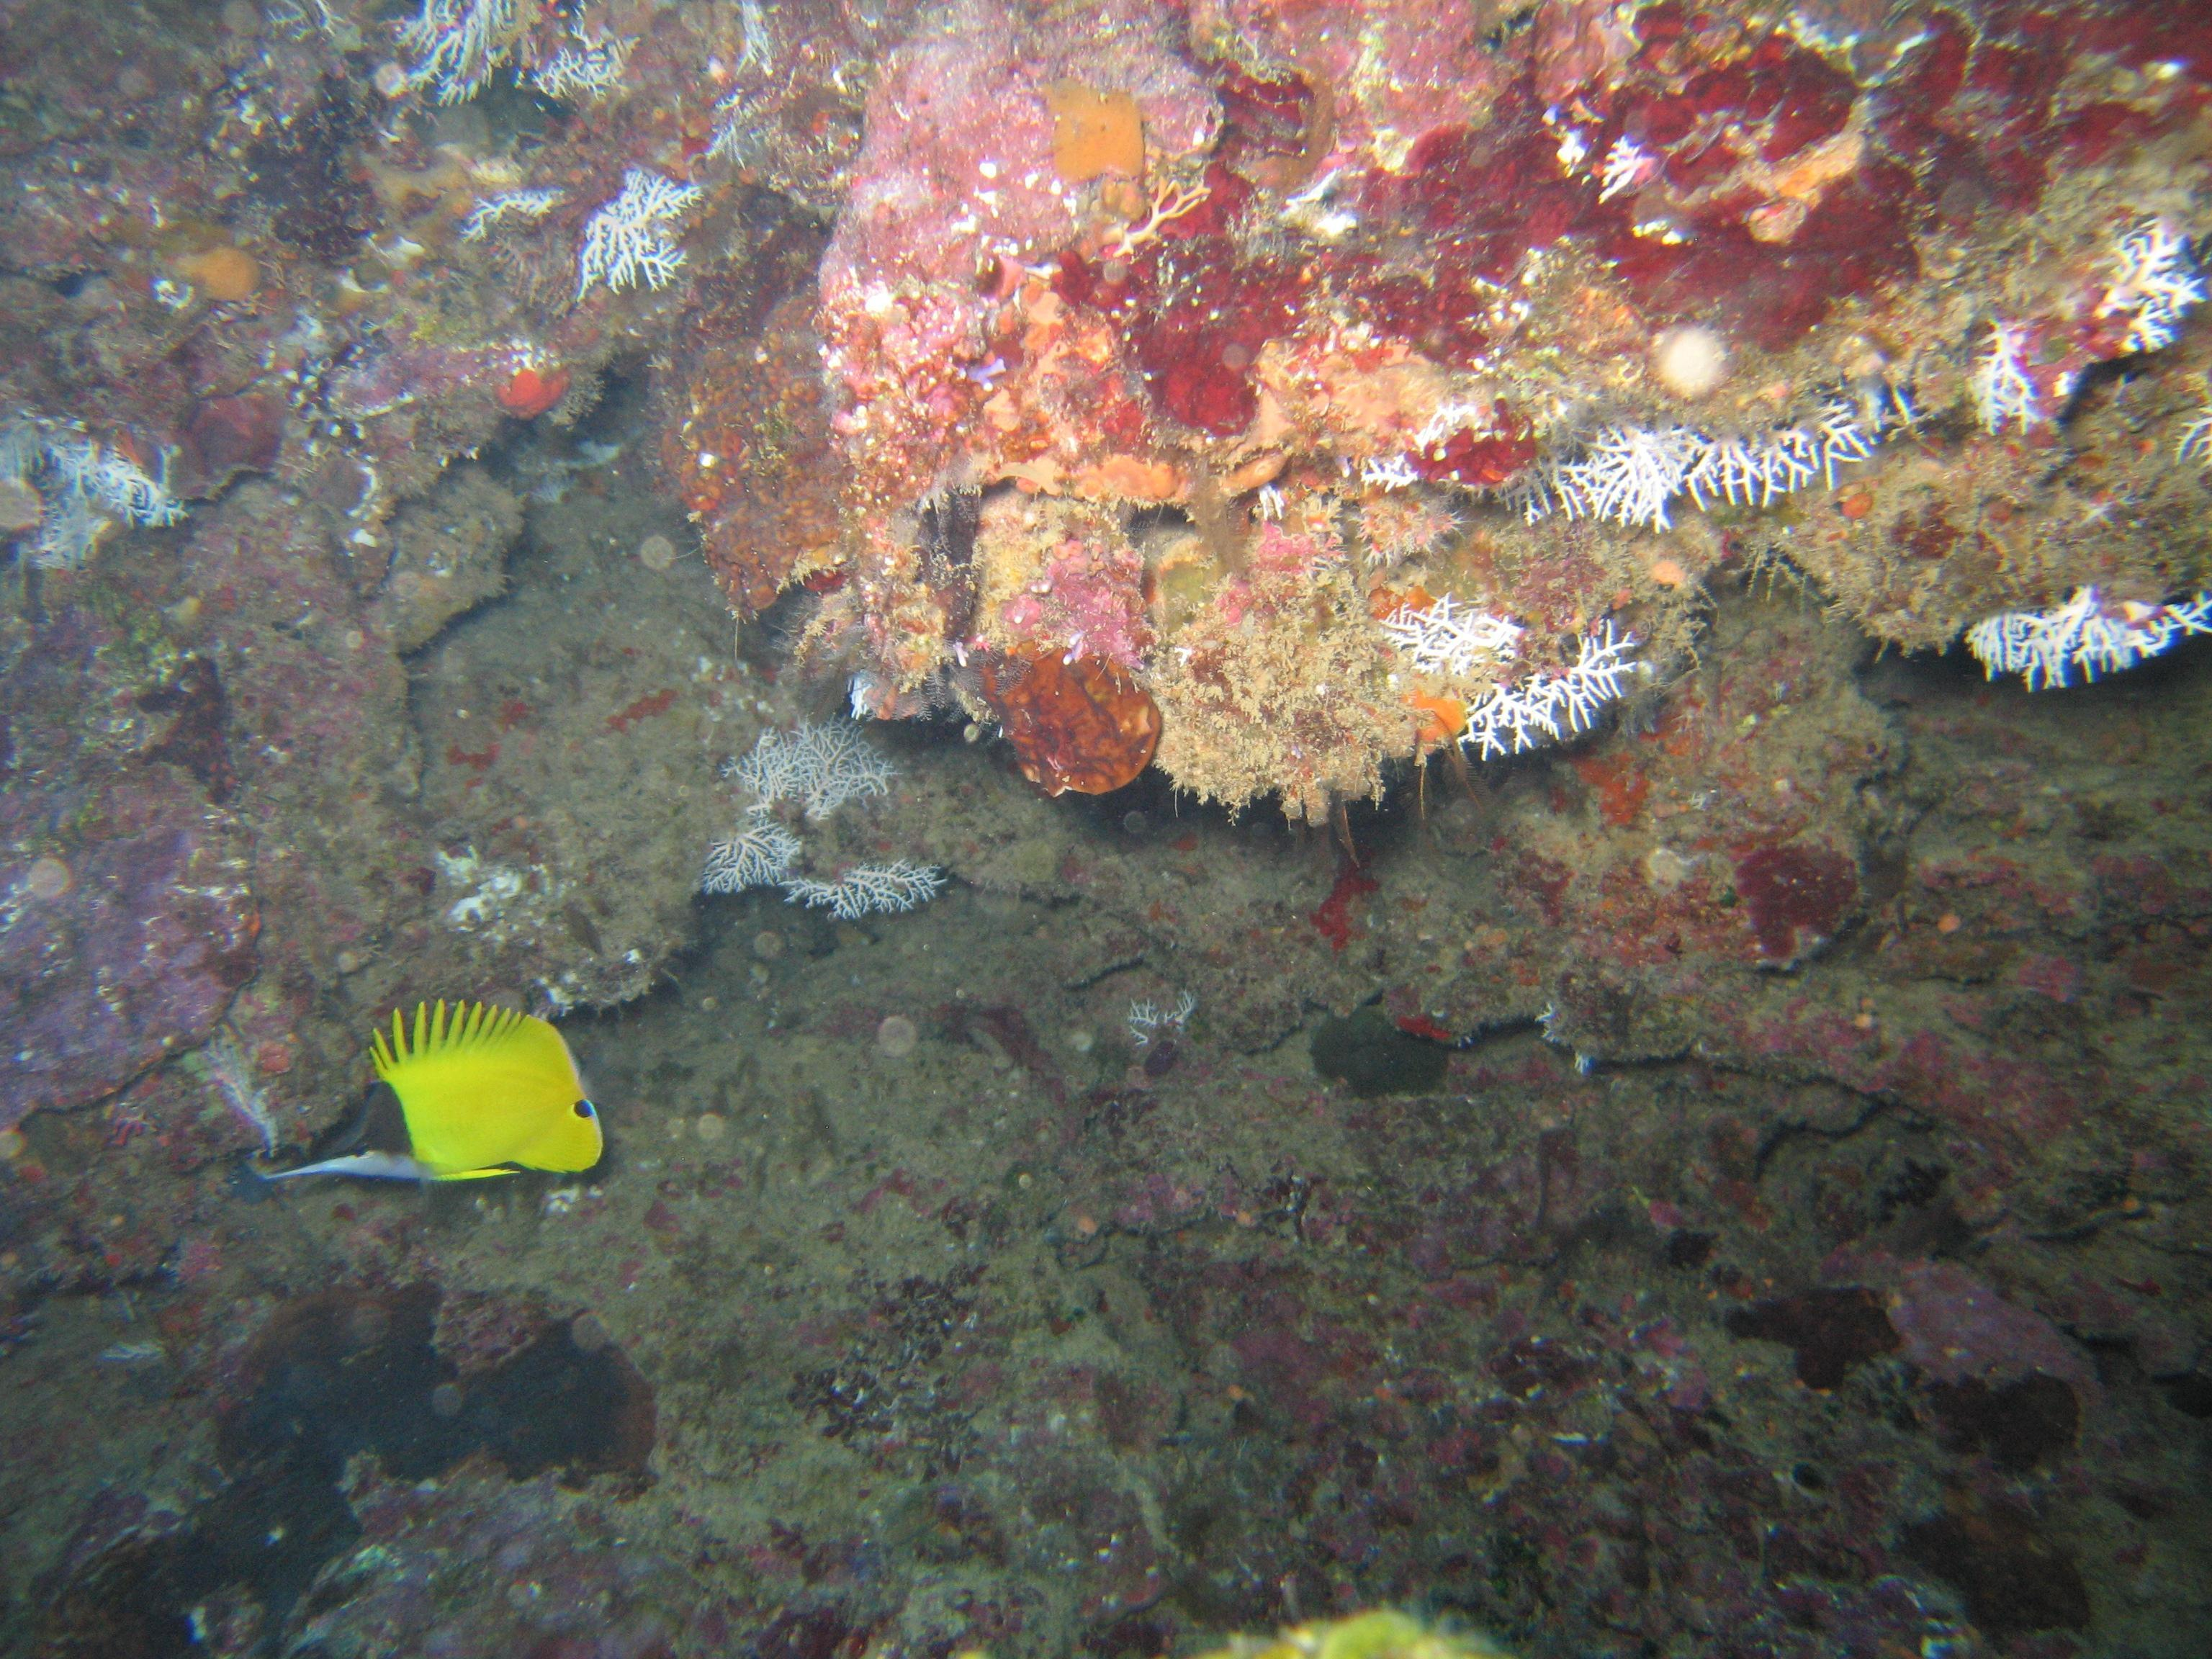Fish: (221, 936, 709, 1302)
